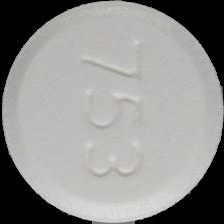68071-1771: (0, 0, 224, 224)
